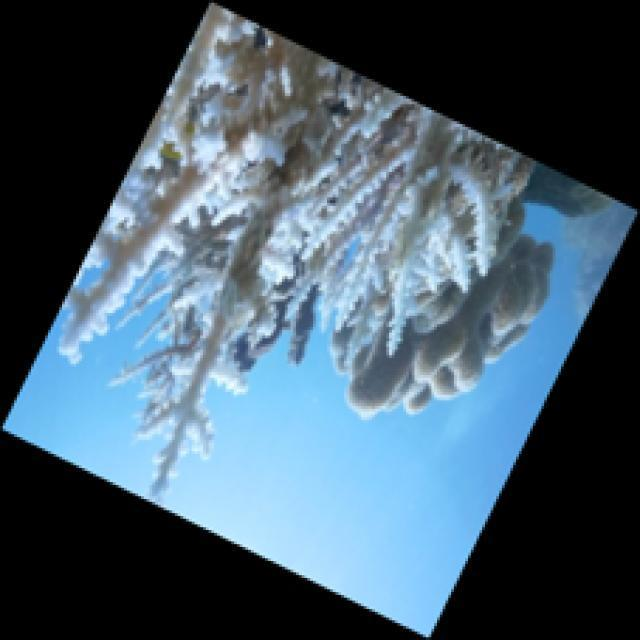Bleached: (63, 2, 536, 501)
Healthy: (333, 235, 556, 420)
